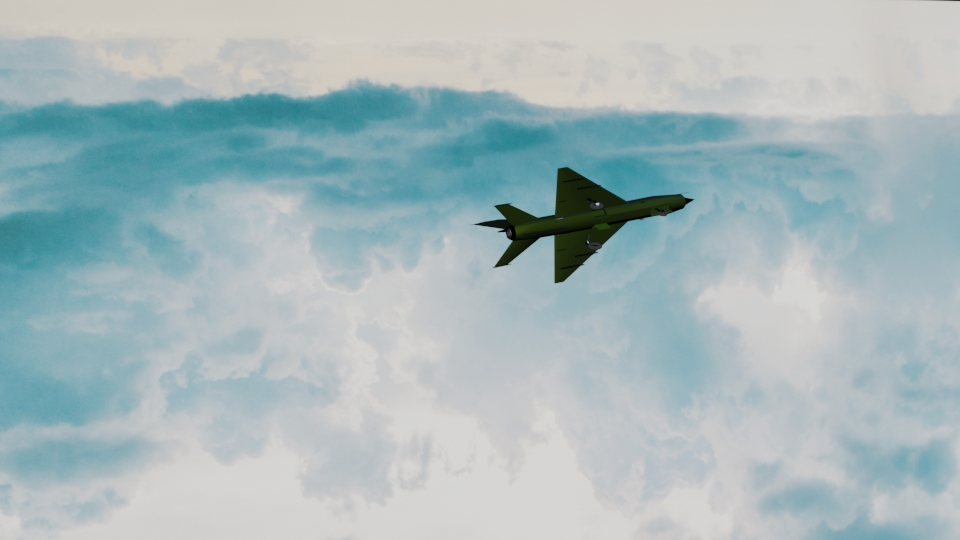plane: (480, 164, 693, 285)
